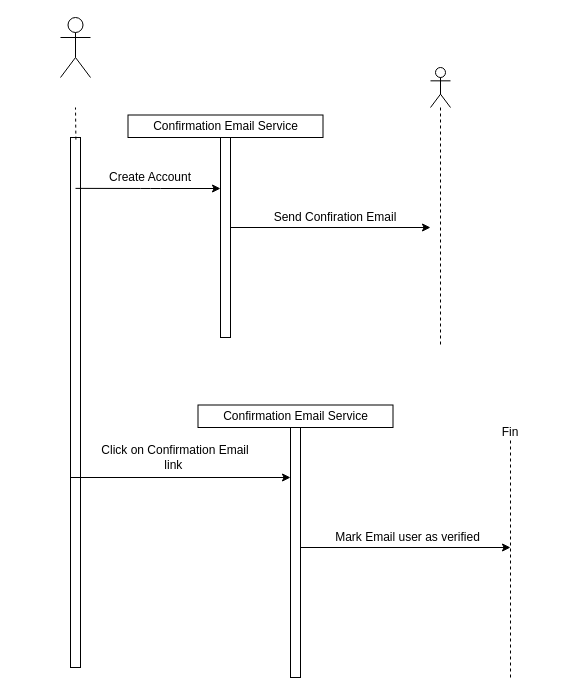
Image size: 573x696. Some labels were removed from this diagram. The box of each missing label's shape, as (x1, y1, x2, y2) in pixels:
Unauthenticated User: (60, 16, 90, 78)
Unauthenticated User Inbox: (430, 66, 450, 348)
